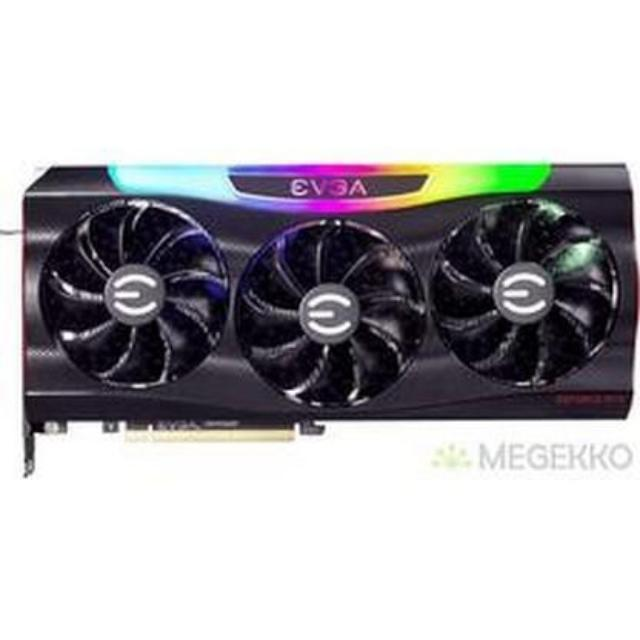GPU: (15, 158, 640, 438)
